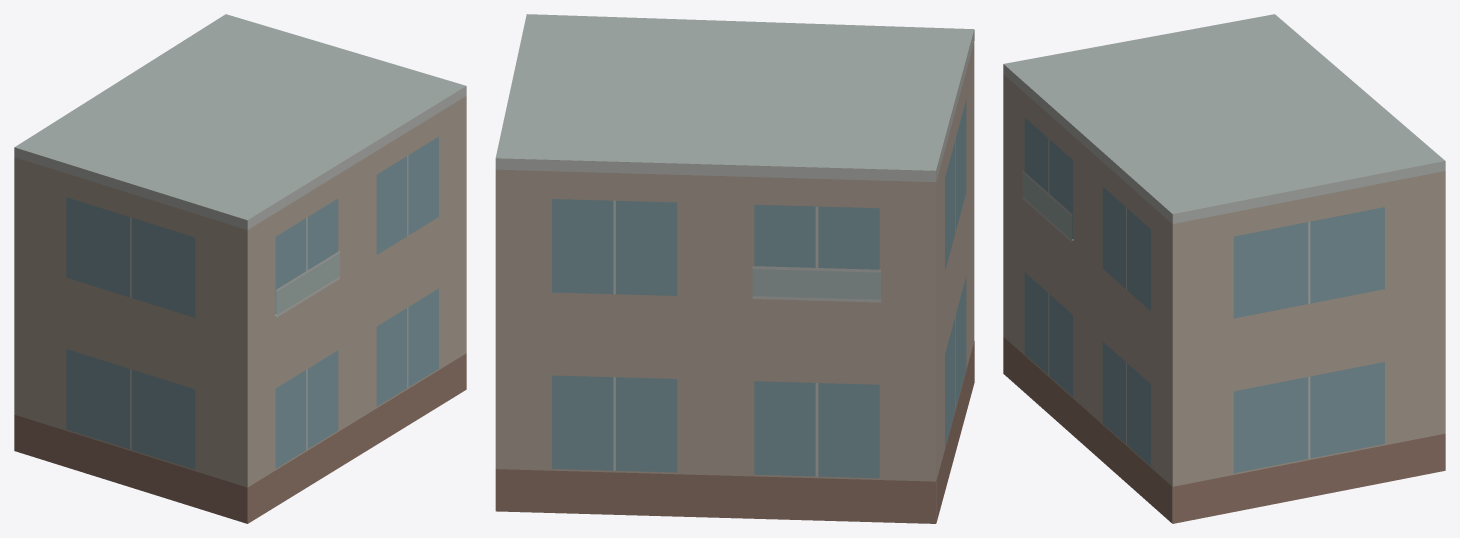
The model's file is survey-upis-32595954.glb.
3 renders of one model, left to right at view 1: azimuth 30°, elevation 25°; view 2: azimuth 150°, elevation 25°; view 3: azimuth 270°, elevation 25°, orthographic. The views are drawn at different scales.
Visible parts, largest first — view 1: survey-upis-32595954.tmp; view 2: survey-upis-32595954.tmp; view 3: survey-upis-32595954.tmp.
Part boxes in pixels (x1=…): survey-upis-32595954.tmp: x1=14, y1=14, x2=466, y2=523; survey-upis-32595954.tmp: x1=495, y1=14, x2=974, y2=523; survey-upis-32595954.tmp: x1=1003, y1=14, x2=1445, y2=523.
Size of the model in its own units: 10.55 by 7.6 by 9.85.
